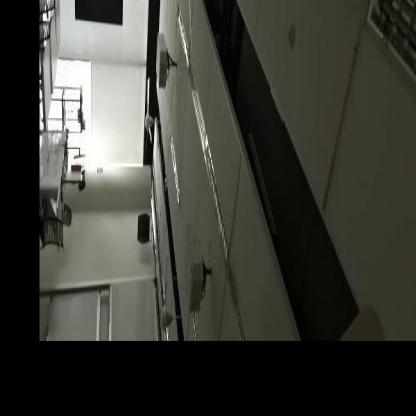light_off: (363, 0, 415, 155), (194, 118, 243, 268), (172, 0, 195, 73)
